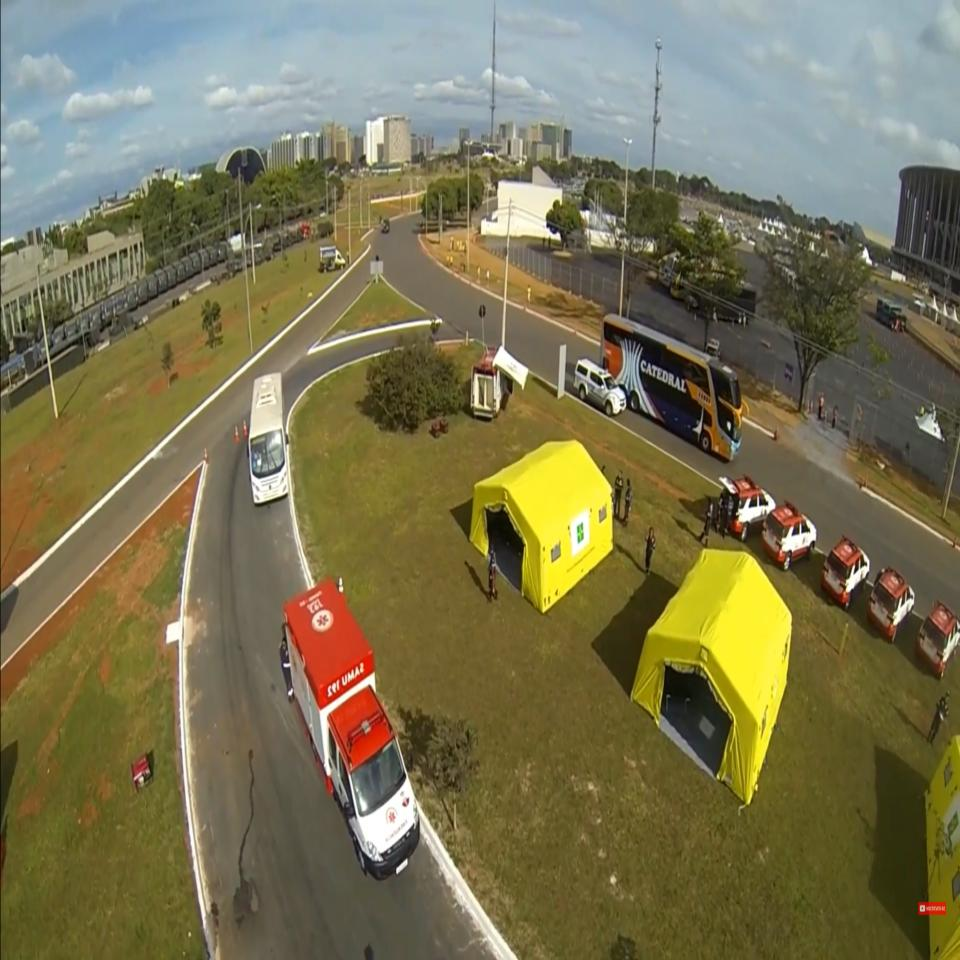bombeiro: (283, 574, 421, 881), (762, 497, 817, 571), (720, 472, 776, 540), (870, 564, 916, 646), (823, 534, 872, 609), (917, 597, 960, 681)
